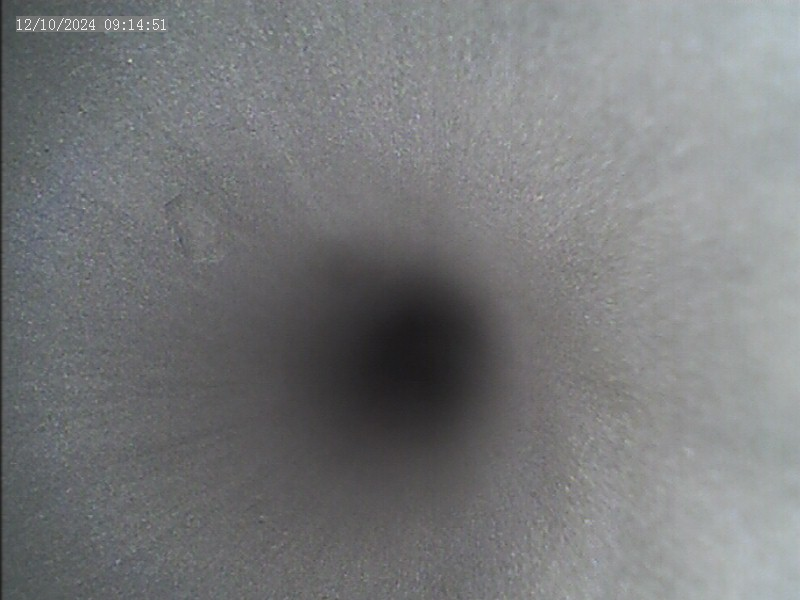defective_area: (161, 193, 214, 263)
